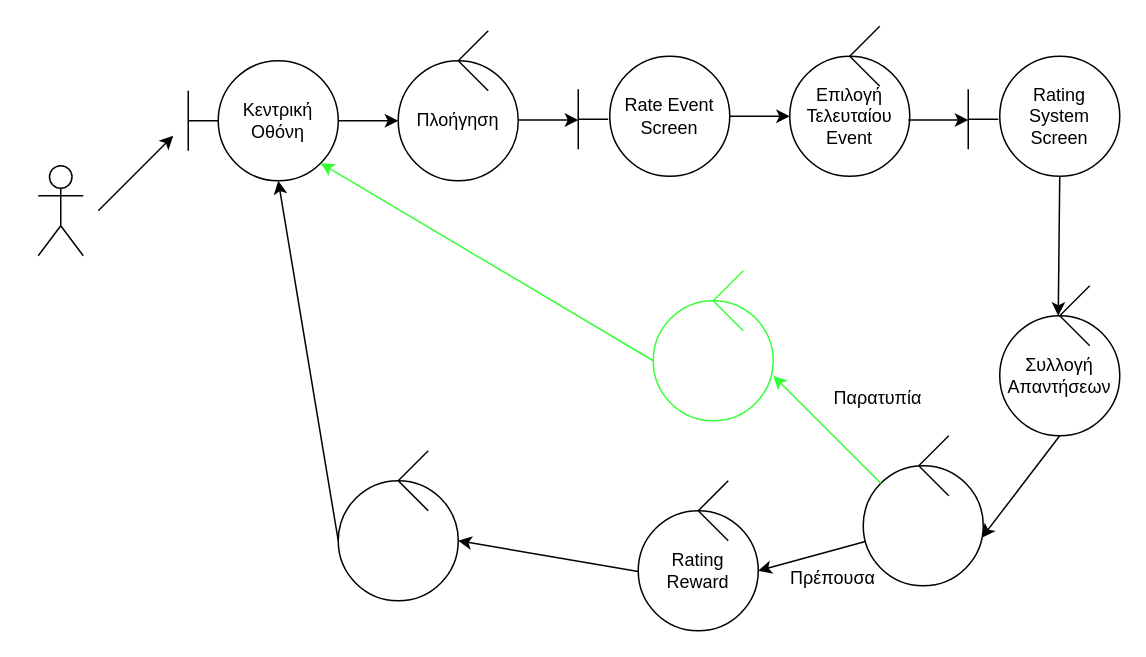
Image size: 1146x657. Some labels were removed from this diagram. Each missing label, with the centre of its shape:
Rating Penalty: (712,360)
Έλεγχος Απαντήσεων: (922,525)
Πίστωση pCoins: (397,540)
Χρήστης: (60,210)
